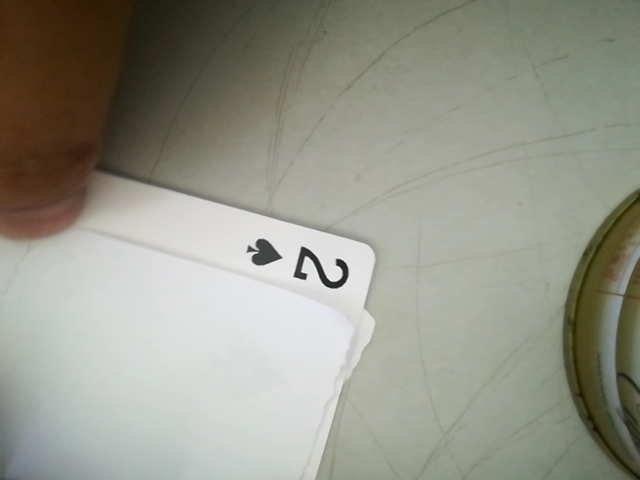ht 2: (242, 231, 367, 298)
